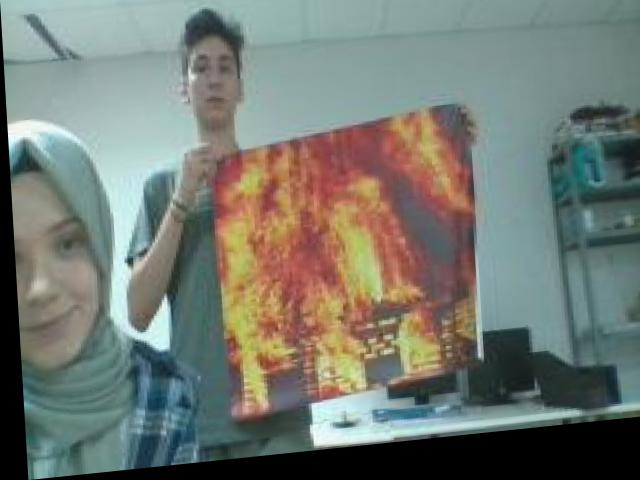fire-poster: (201, 107, 487, 430)
